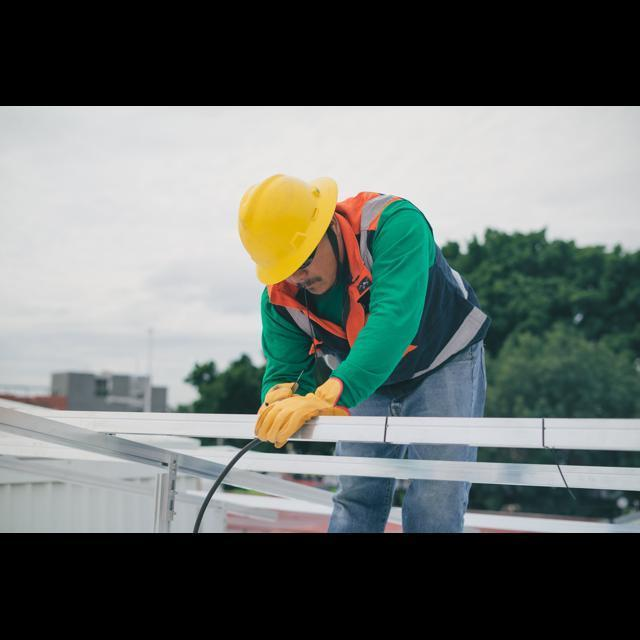Capacete: (238, 174, 337, 284)
Colete: (268, 192, 400, 368)
Pessoa: (238, 174, 490, 446)
